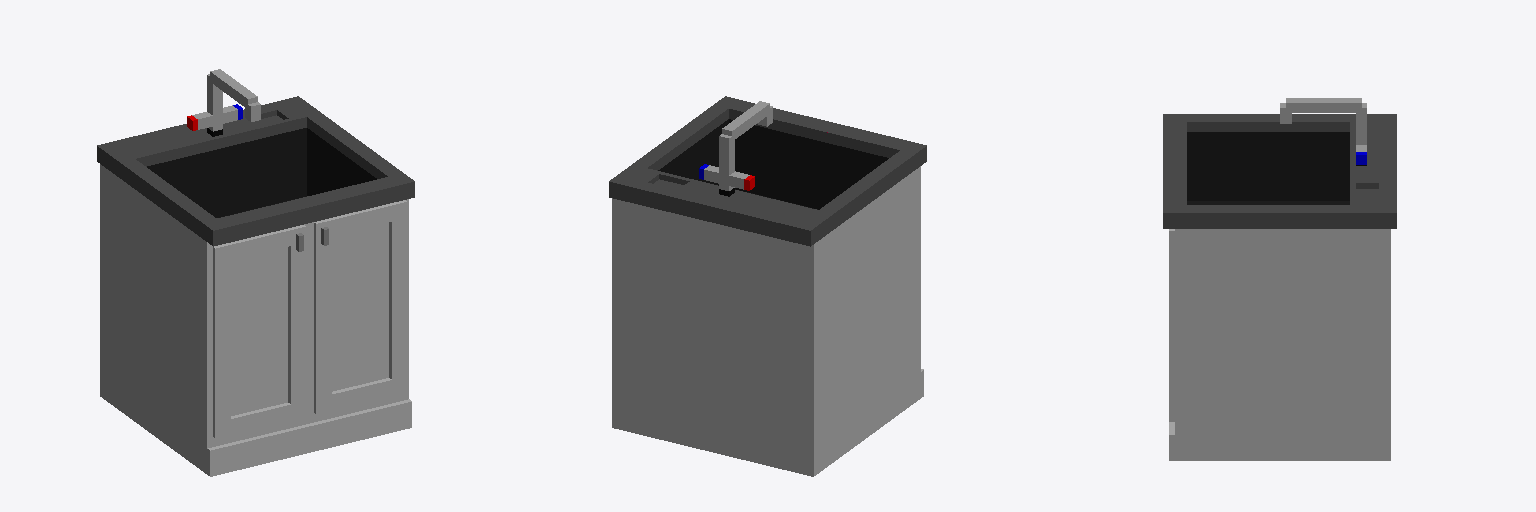
The picture shows the model from 3 angles: view 1: azimuth 30°, elevation 25°; view 2: azimuth 150°, elevation 25°; view 3: azimuth 270°, elevation 25°; orthographic projection.
Visible parts, largest first — view 1: closet3; view 2: closet3; view 3: closet3.
Part boxes in pixels (x1,y1,x2,y2): closet3: (97,69,414,476); closet3: (609,96,926,476); closet3: (1163,98,1396,460).
Bounding box in the file's own units: 4 × 5.9 × 4.
Materials: 1 (1 with a texture image).